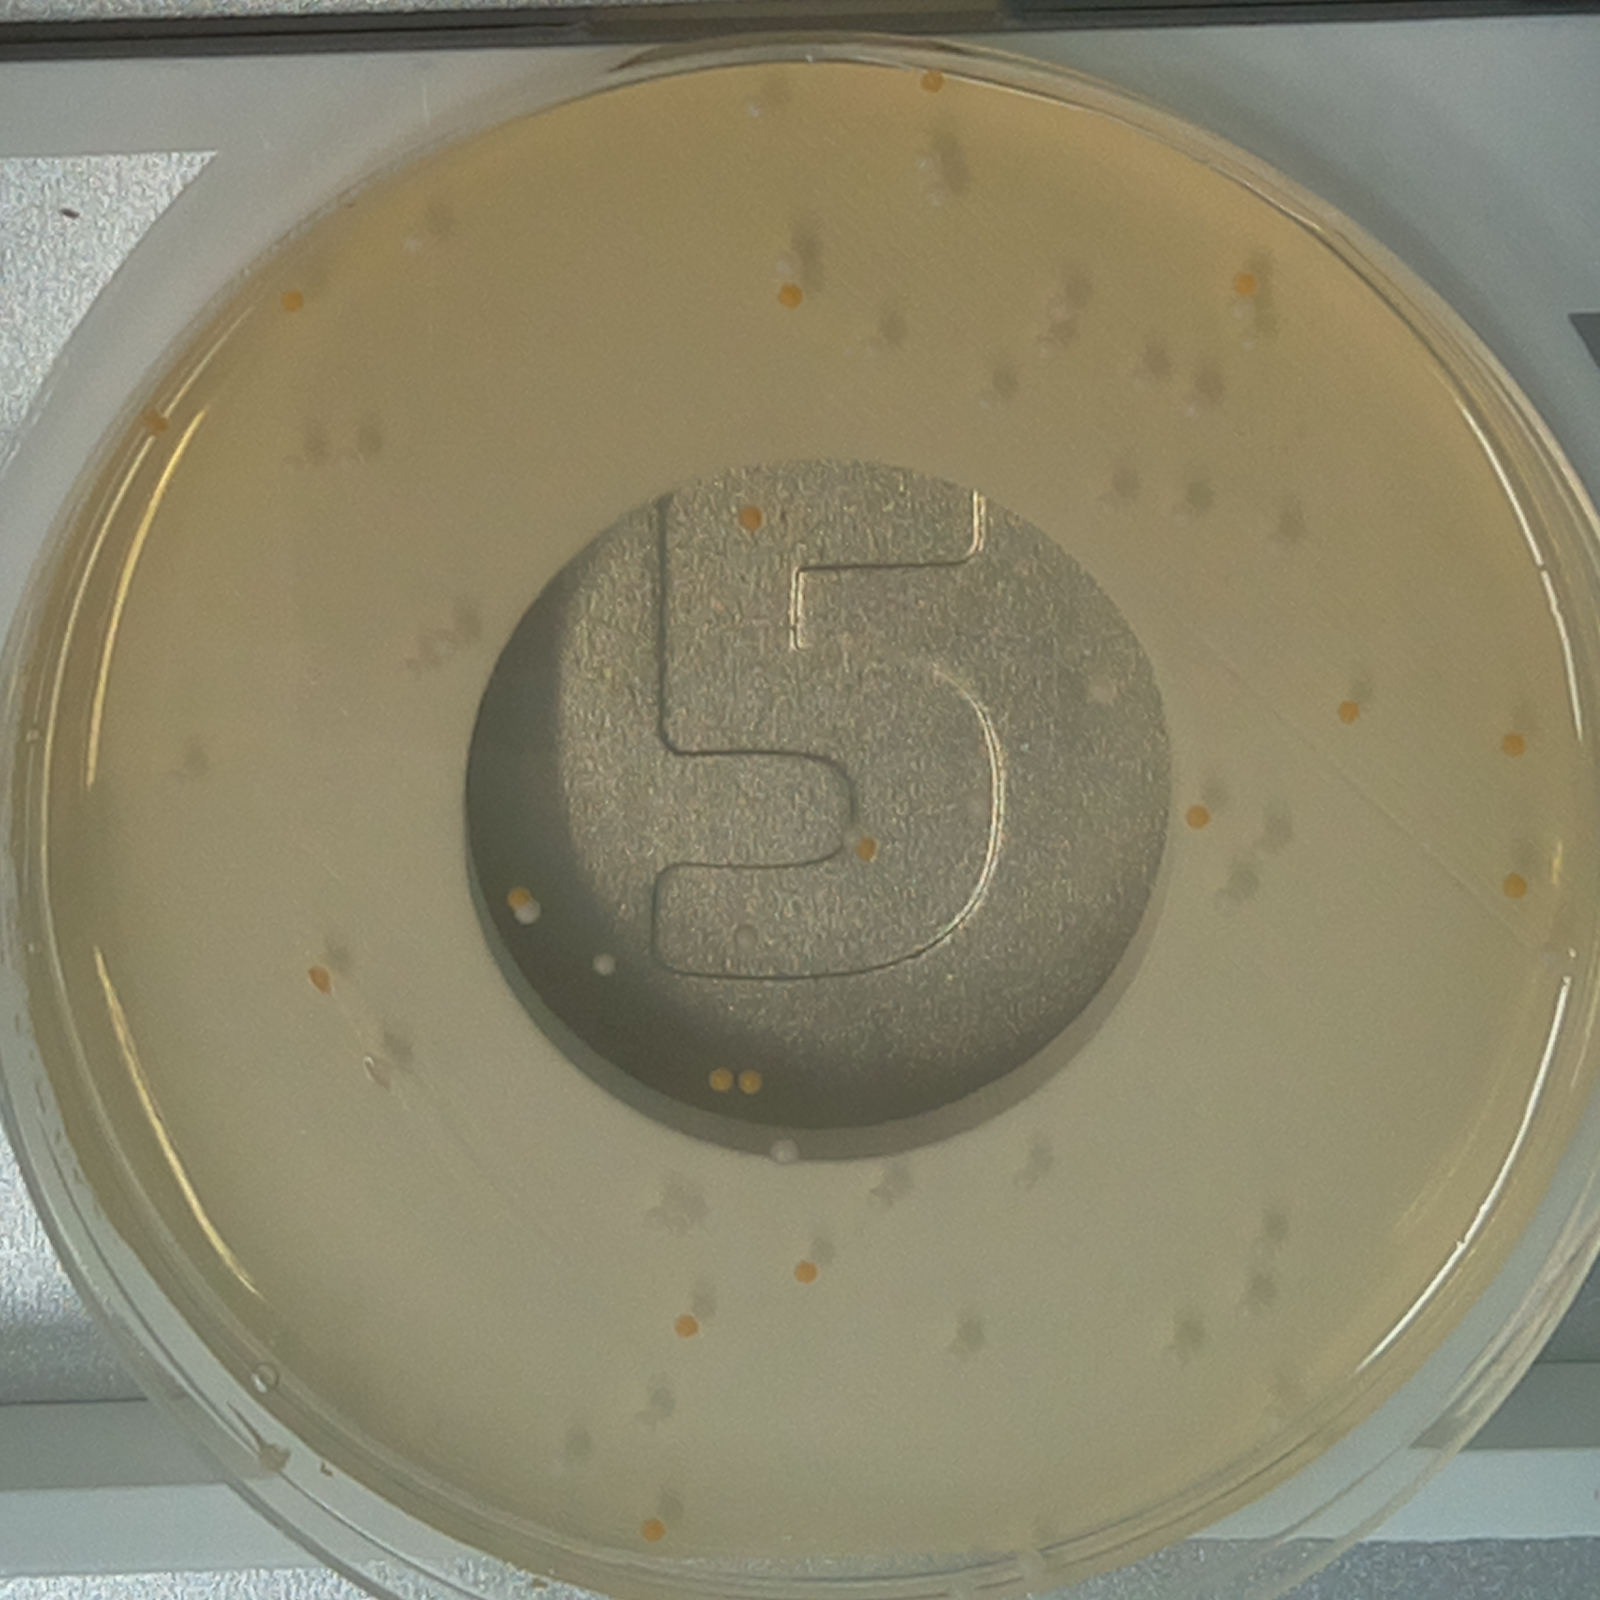car: (731, 1053, 777, 1108), (665, 1301, 709, 1348), (697, 1053, 737, 1103), (768, 278, 815, 319), (1495, 719, 1534, 768), (634, 1508, 675, 1552), (1329, 690, 1370, 734), (784, 1251, 829, 1291), (273, 284, 315, 325), (914, 62, 954, 104), (1179, 796, 1218, 840), (1497, 864, 1531, 907), (138, 404, 173, 442), (734, 498, 765, 541)
white: (722, 82, 790, 138), (955, 777, 1007, 837), (845, 322, 901, 377), (390, 215, 445, 268), (968, 365, 1029, 413), (1174, 379, 1226, 434), (930, 1332, 985, 1382), (1201, 879, 1254, 929), (1078, 665, 1130, 715), (1162, 486, 1212, 538), (1254, 514, 1301, 568), (1040, 284, 1090, 334), (1240, 1223, 1286, 1276), (265, 437, 312, 489), (538, 1443, 588, 1490), (418, 618, 464, 668), (1152, 1329, 1199, 1376), (762, 1130, 812, 1174), (582, 941, 627, 988), (1226, 1289, 1270, 1338), (1087, 484, 1137, 526), (1242, 826, 1289, 870), (151, 759, 193, 801), (1004, 1158, 1045, 1201), (725, 917, 765, 963), (330, 437, 362, 484)
